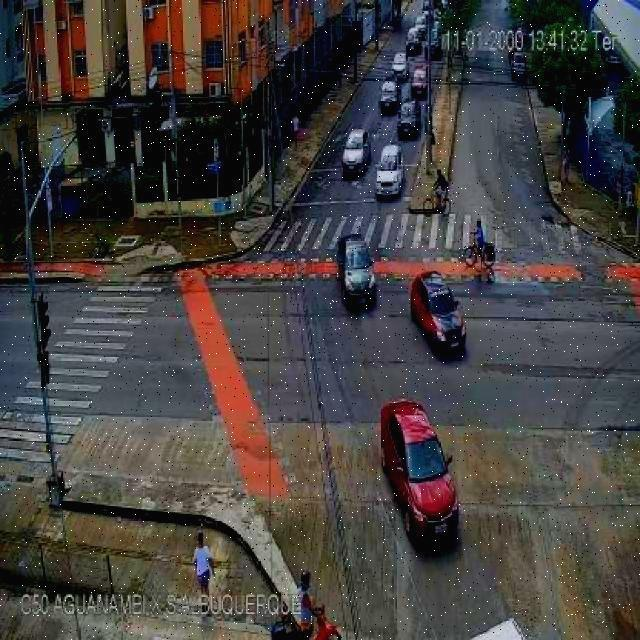Car: (380, 399, 460, 551), (408, 270, 466, 354), (337, 234, 377, 303), (374, 144, 404, 198), (342, 128, 370, 176), (398, 100, 419, 137), (379, 82, 399, 115), (601, 40, 623, 68), (423, 28, 443, 58), (411, 66, 428, 98), (510, 52, 528, 82), (390, 52, 408, 80), (405, 27, 421, 54), (414, 15, 428, 35)
Cycle: (268, 602, 342, 639), (462, 232, 497, 268), (422, 183, 452, 217)
